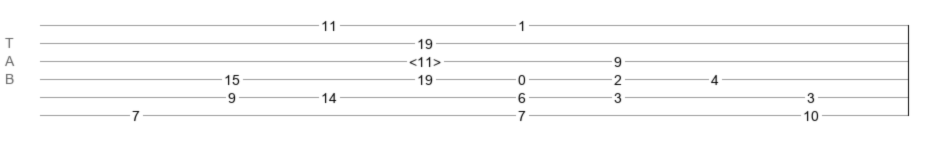0: (518, 72, 526, 82)
1: (518, 18, 526, 28)
10: (803, 108, 819, 118)
11: (321, 18, 337, 28)
14: (321, 90, 337, 100)
15: (224, 72, 240, 82)
19: (417, 36, 433, 46), (417, 72, 433, 82)
2: (614, 72, 622, 82)
3: (614, 90, 622, 100), (807, 90, 815, 100)
4: (711, 72, 719, 82)
6: (518, 90, 526, 100)
7: (132, 108, 140, 118), (518, 108, 526, 118)
9: (228, 90, 236, 100), (614, 54, 622, 64)
harmonic: (409, 54, 441, 64)
